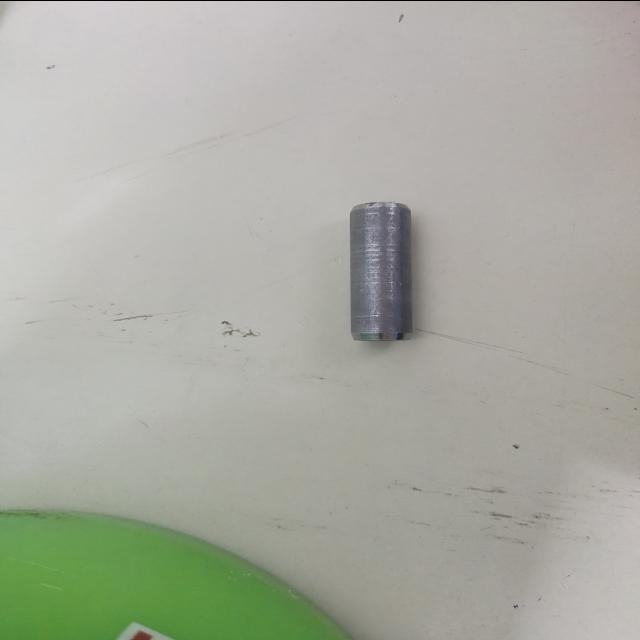Broken: (348, 200, 416, 342)
